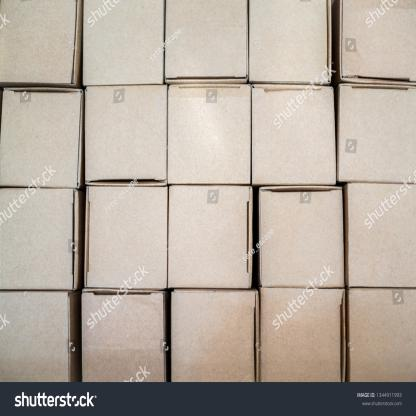box: (169, 184, 252, 288), (85, 185, 167, 289), (251, 83, 336, 183), (168, 84, 253, 182), (260, 286, 346, 382), (85, 86, 168, 185), (0, 88, 80, 190), (260, 188, 343, 286), (171, 290, 257, 382), (338, 82, 414, 182), (0, 188, 76, 287), (82, 291, 166, 379), (347, 183, 416, 287), (164, 0, 249, 82), (248, 0, 332, 82), (82, 0, 162, 83), (0, 0, 75, 87), (0, 292, 70, 383), (348, 288, 416, 380), (340, 0, 416, 81)
